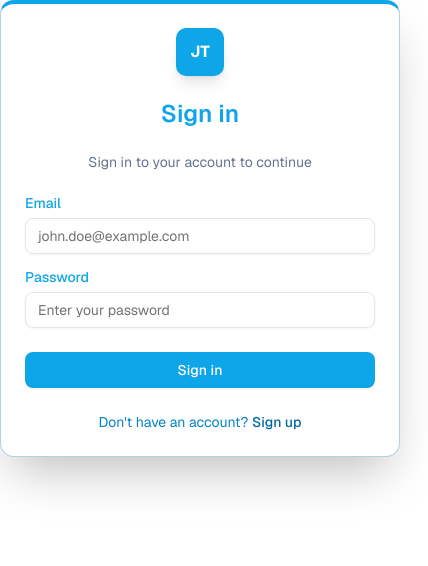
it: LoginForm › should display validation errors for empty fields
Click the button "Sign in".
click(200, 370)  # box [25,352,375,388]
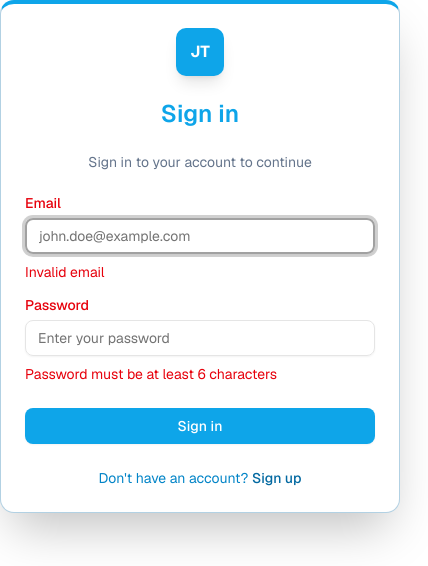
Result: the text "Invalid email" is shown at [25,263,104,281]
Result: the text "Password must be at least 6 characters" is shown at [25,365,277,383]
